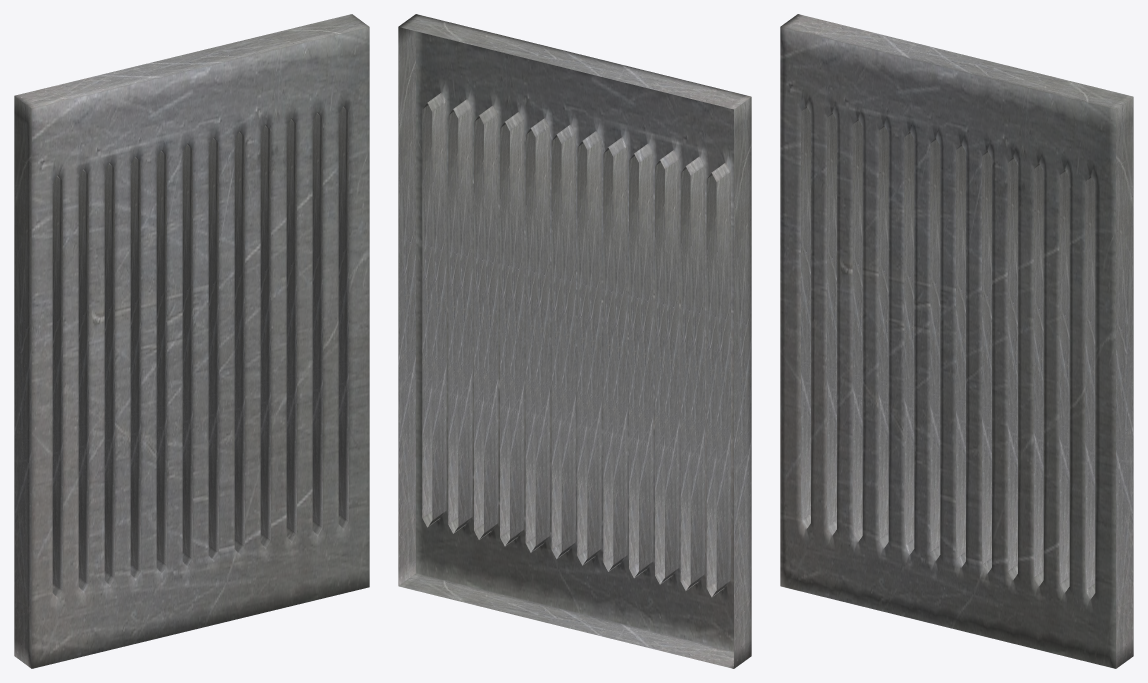
File: grill.glb
3 views of the same model, side by side, from view 1: azimuth 30°, elevation 25°; view 2: azimuth 150°, elevation 25°; view 3: azimuth 330°, elevation 25° (orthographic).
Visible parts, largest first — view 1: grill; view 2: grill; view 3: grill.
Boxes of the visible parts, box(x1,y1,x2,y2) form: grill: box(14, 14, 369, 668); grill: box(398, 14, 751, 668); grill: box(780, 14, 1133, 668).
Bounding box in the file's own units: 0.4 × 0.6349 × 0.0377.
Materials: 1 (1 with a texture image).
